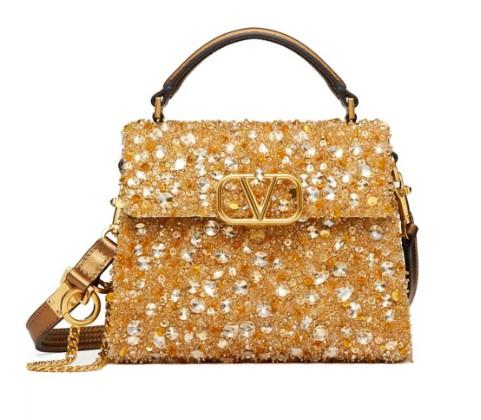VALENTINO: (216, 174, 303, 225)
